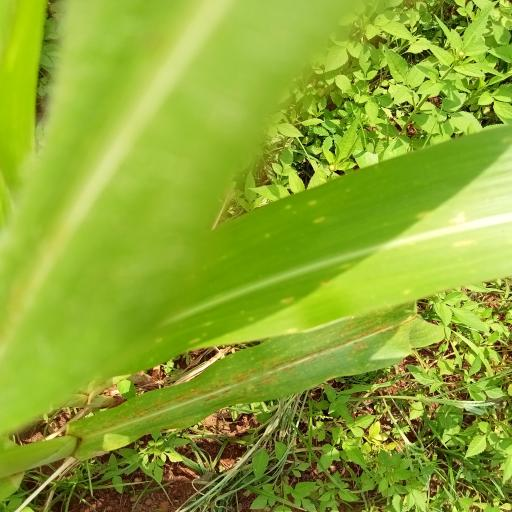Corn_Brown_Spots: (153, 125, 512, 353), (70, 304, 430, 463)
